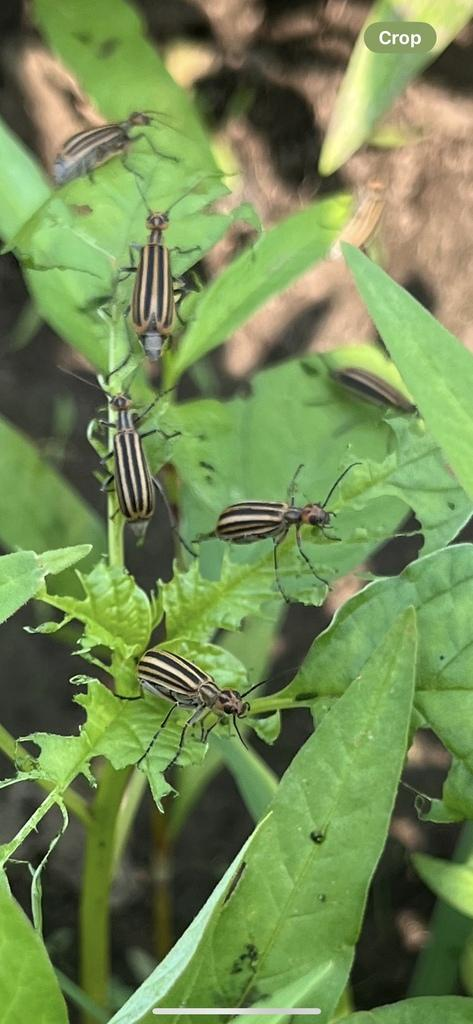blister_beetle: (201, 431, 381, 609), (105, 617, 289, 777), (51, 349, 190, 546), (24, 70, 211, 207), (102, 164, 219, 375)
